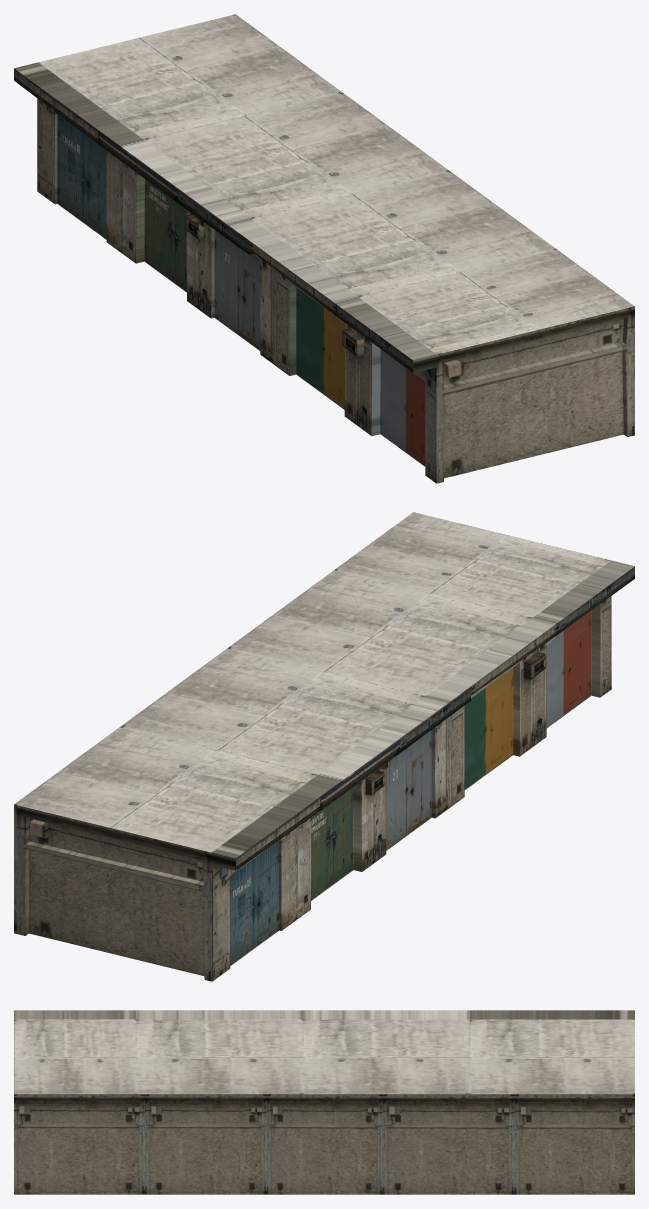
The model's file is kit_garage.glb.
The picture shows the model from 3 angles, top to bottom: view 1: azimuth 30°, elevation 25°; view 2: azimuth 150°, elevation 25°; view 3: azimuth 270°, elevation 25°; orthographic projection. The views are drawn at different scales.
Visible parts, largest first — view 1: Cube; view 2: Cube; view 3: Cube.
Boxes of the visible parts, <box> form: Cube: <box>14,14,634,483</box>; Cube: <box>14,512,634,981</box>; Cube: <box>14,1010,634,1194</box>.
Bounding box in the file's own units: 4.16 × 2.31 × 12.97.
Materials: 1 (1 with a texture image).
